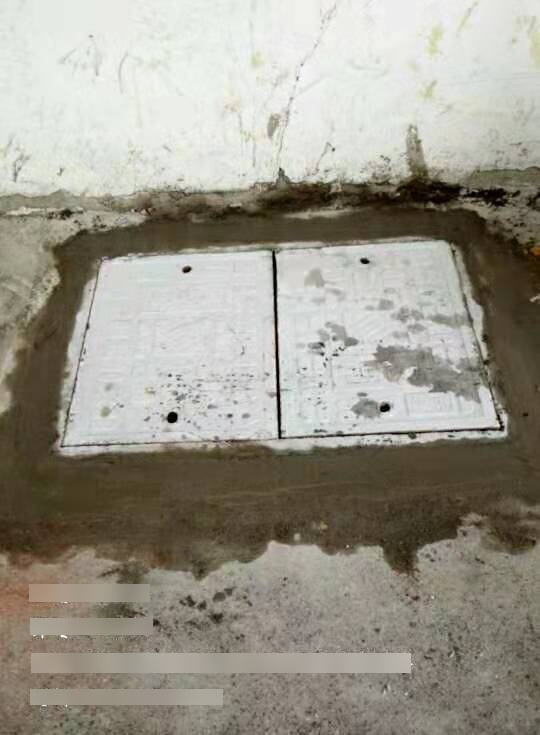well: (51, 239, 512, 450)
